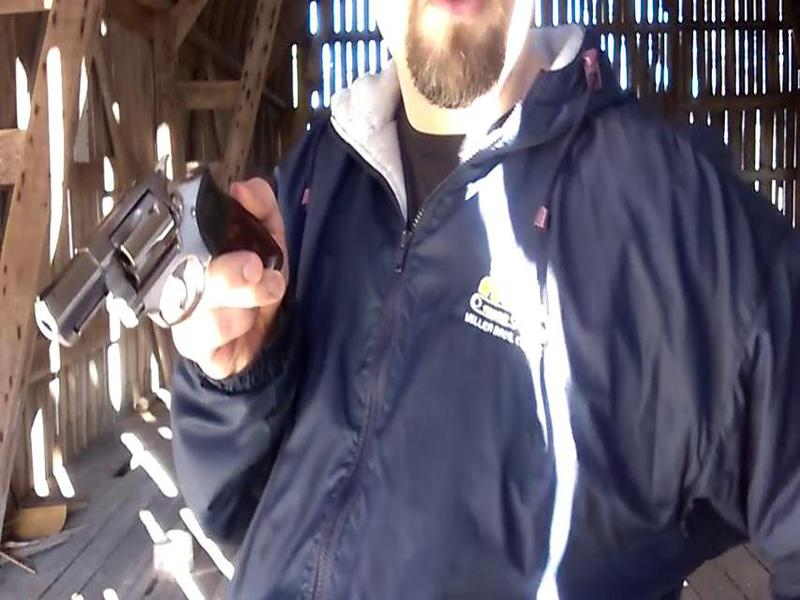Revolver: (35, 148, 243, 354)
